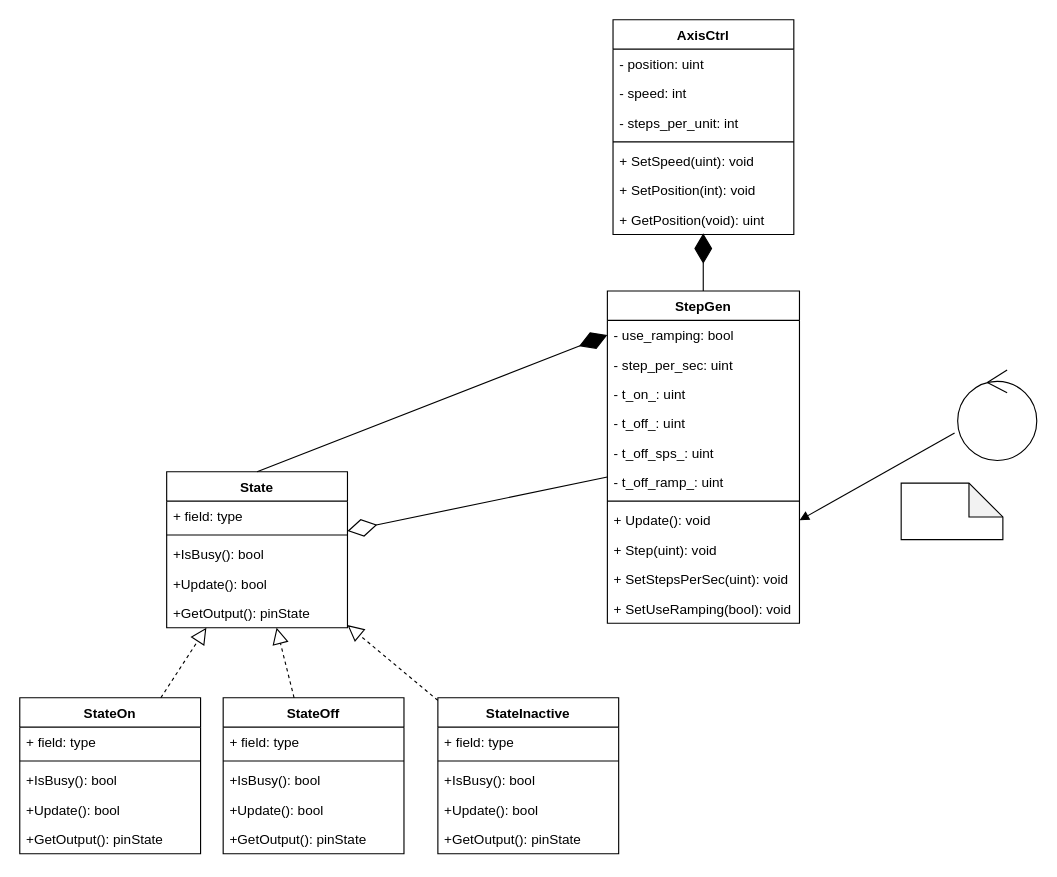
This 1057x877 diagram has some shape labels left out. Each missing label, with the centre of its shape:
"1ms task" goes at (997,414).
"Update()" goes at (951,511).
